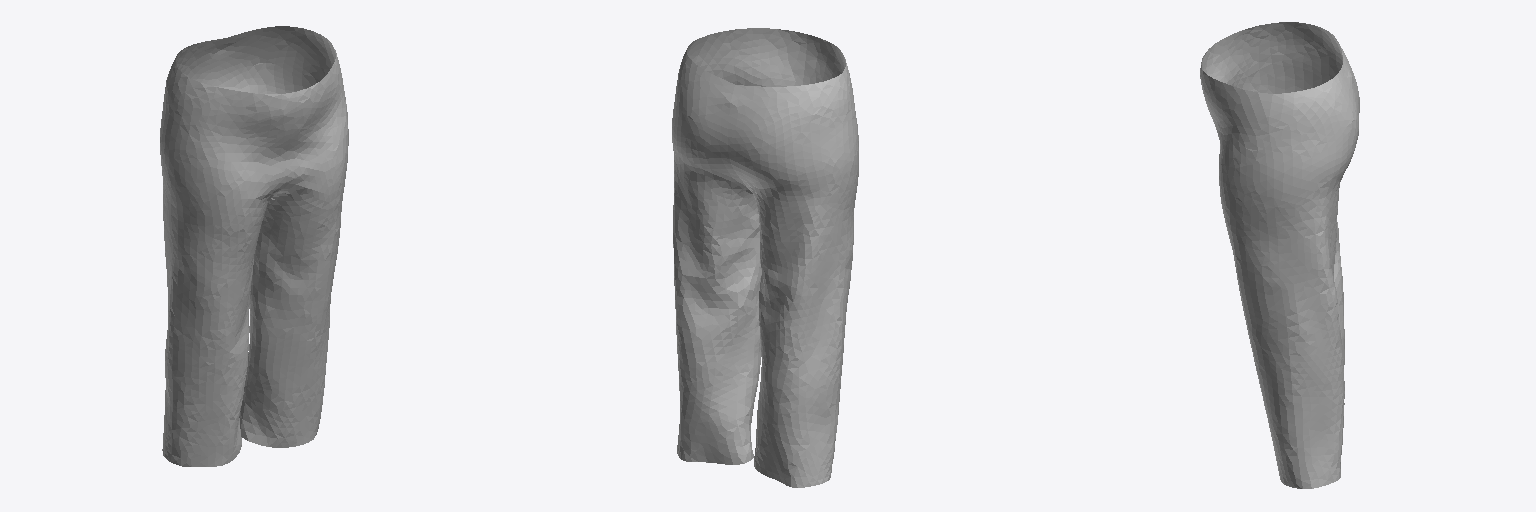
File: pants_full.obj
3 views of the same model, side by side, from view 1: azimuth 30°, elevation 25°; view 2: azimuth 150°, elevation 25°; view 3: azimuth 270°, elevation 25° (orthographic).
Parts seen in each view (by area): view 1: pants; view 2: pants; view 3: pants.
Part boxes in pixels (left/top/right/bottom): pants: left=160, top=26, right=348, bottom=466; pants: left=672, top=28, right=858, bottom=487; pants: left=1200, top=22, right=1359, bottom=488.
Bounding box in the file's own units: 0.4134 × 0.9296 × 0.3361.